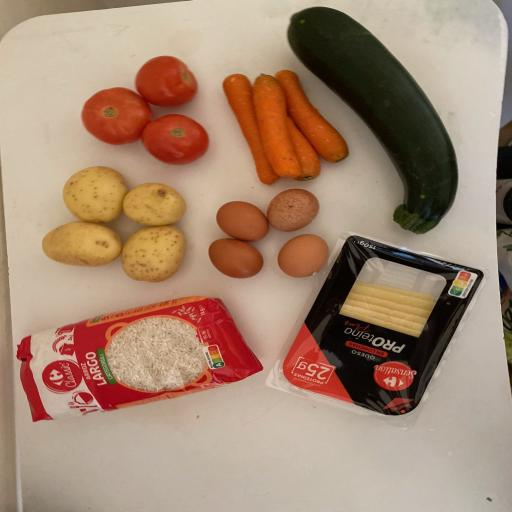carrot: (246, 44, 346, 186), (209, 62, 302, 193), (252, 65, 362, 172), (242, 61, 314, 195)
cheese: (248, 218, 499, 432)
courgette: (286, 2, 486, 255)
egg: (197, 218, 278, 300), (267, 228, 358, 283), (257, 172, 325, 244), (205, 193, 288, 248)
potato: (26, 206, 168, 286), (107, 207, 196, 297), (50, 154, 140, 235), (113, 170, 197, 240)
rice: (2, 278, 270, 445)
tomato: (58, 72, 160, 175), (116, 104, 223, 174), (118, 42, 210, 116)
